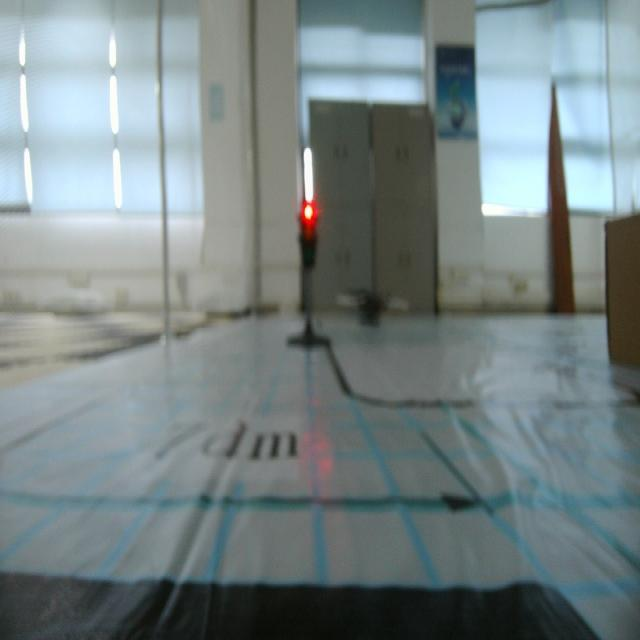red: (298, 197, 320, 274)
